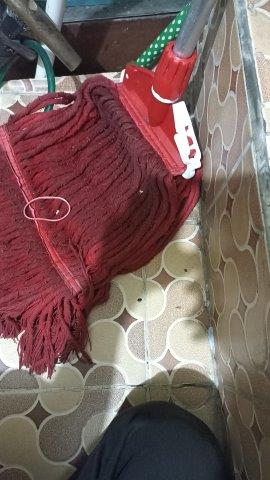karet: (23, 196, 71, 221)
